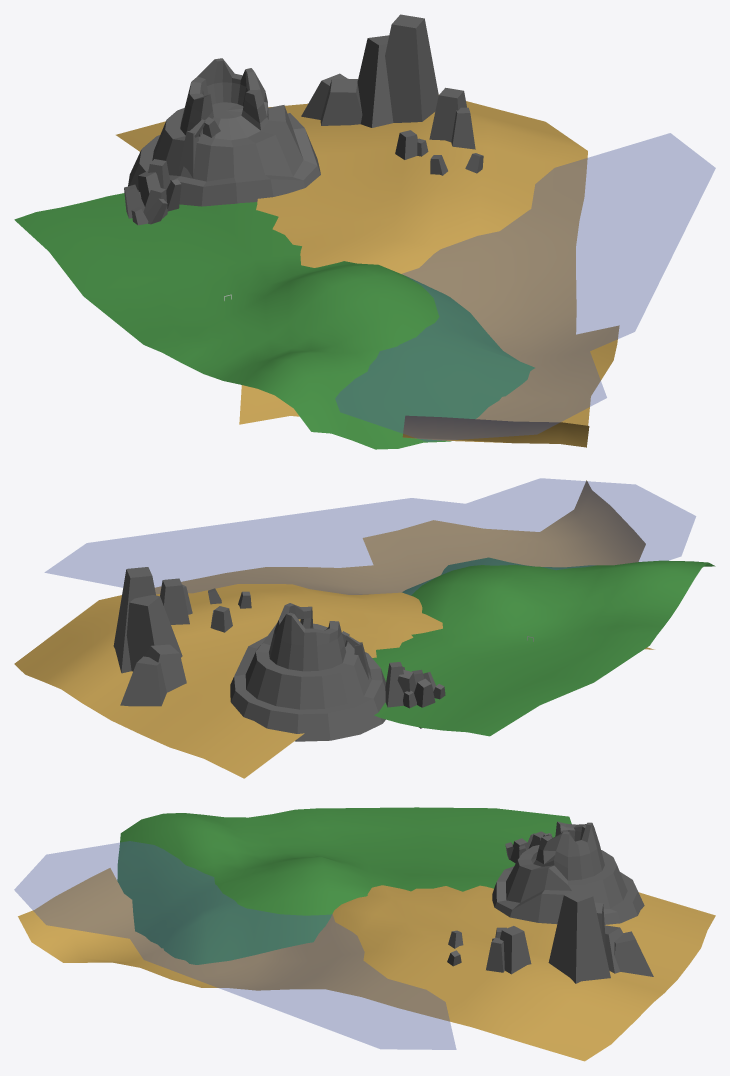
Rendered from SM_world_temp.fbx.
3 renders of one model, top to bottom at view 1: azimuth 30°, elevation 25°; view 2: azimuth 150°, elevation 25°; view 3: azimuth 270°, elevation 25°, orthographic. The views are drawn at different scales.
Parts seen in each view (by area): view 1: SM_temp_grassland, SM_temp_grassland.001, SM_temp_water, volcano, Cube.017, Cube.018, Cube.019, Cube.002, Cube.003, Cube.020; view 2: SM_temp_grassland.001, SM_temp_water, SM_temp_grassland, volcano, Cube.018, Cube.017, Cube.020, Cube.019, Cube.002, Cube.006; view 3: SM_temp_grassland.001, SM_temp_grassland, SM_temp_water, volcano, Cube.017, Cube.020, Cube.002, Cube.019, Cube.003.
Boxes of the visible parts, left/top/right/bottom form: SM_temp_grassland: left=14, top=193, right=534, bottom=449; SM_temp_grassland.001: left=116, top=101, right=619, bottom=447; SM_temp_water: left=335, top=133, right=715, bottom=441; volcano: left=128, top=58, right=320, bottom=206; Cube.017: left=385, top=14, right=438, bottom=122; Cube.018: left=357, top=35, right=393, bottom=127; Cube.019: left=320, top=78, right=362, bottom=125; Cube.002: left=429, top=87, right=466, bottom=142; Cube.003: left=451, top=107, right=475, bottom=149; Cube.020: left=301, top=73, right=347, bottom=119; SM_temp_grassland.001: left=14, top=480, right=654, bottom=778; SM_temp_water: left=45, top=478, right=695, bottom=595; SM_temp_grassland: left=372, top=557, right=715, bottom=736; volcano: left=230, top=603, right=385, bottom=741; Cube.018: left=126, top=595, right=182, bottom=671; Cube.017: left=113, top=567, right=155, bottom=673; Cube.020: left=120, top=656, right=166, bottom=706; Cube.019: left=144, top=644, right=186, bottom=692; Cube.002: left=160, top=578, right=189, bottom=624; Cube.006: left=385, top=662, right=403, bottom=707; SM_temp_grassland.001: left=18, top=868, right=715, bottom=1061; SM_temp_grassland: left=117, top=807, right=571, bottom=964; SM_temp_water: left=14, top=841, right=456, bottom=1049; volcano: left=492, top=821, right=644, bottom=924; Cube.017: left=548, top=889, right=610, bottom=983; Cube.020: left=614, top=931, right=653, bottom=976; Cube.002: left=500, top=926, right=531, bottom=974; Cube.019: left=604, top=925, right=623, bottom=973; Cube.003: left=486, top=937, right=504, bottom=972.
Bounding box in the file's own units: 1004 × 1239 × 254.
